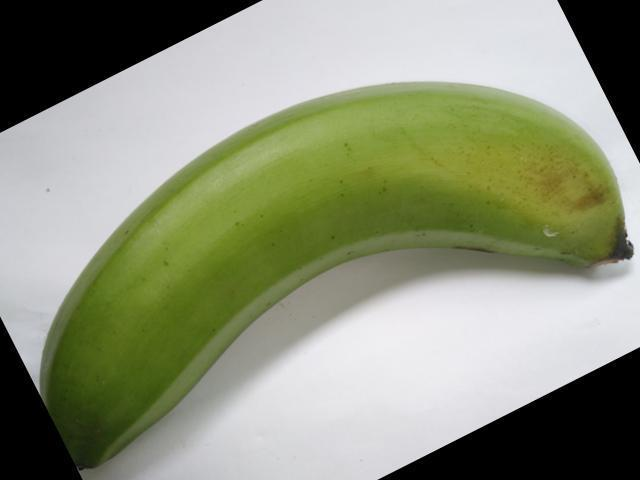freshunripe: (13, 66, 639, 476)
